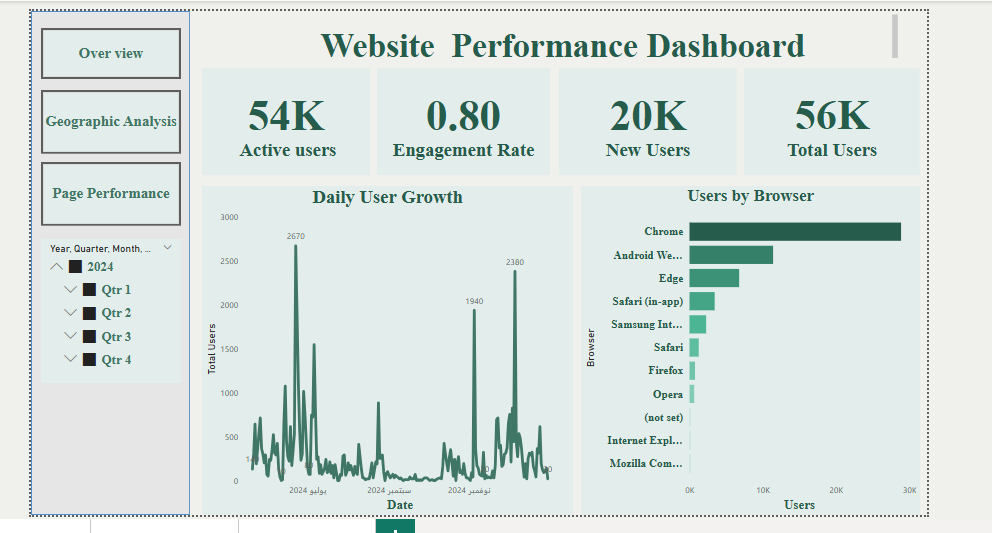

Layout of this report page (visuals, bound fields, positions):
{"tool":"powerbi","page":{"name":"Over view","canvas":[1280,720],"ordinal":0},"visuals":[{"type":"shape","box":[0,0,227.1,720],"z":0},{"type":"actionButton","box":[14.3,24.3,200,72.9],"z":1000},{"type":"actionButton","box":[14.3,215.7,200,91.4],"z":2000},{"type":"actionButton","box":[14.3,112.9,200,91.4],"z":3000},{"type":"textbox","box":[244.3,0,998.6,77.1],"z":4000},{"type":"card","fields":{"Values":["Table1.Engagement Rate"]},"box":[494.3,81.4,247.1,152.9],"z":5000},{"type":"card","fields":{"Values":["Sum(Table1.Active users)"]},"box":[244.3,81.4,240,152.9],"z":6000},{"type":"card","fields":{"Values":["Table1.NewUsers"]},"box":[754.3,81.4,254.3,152.9],"z":7000},{"type":"card","fields":{"Values":["Table1.TotalUsers"]},"box":[1018.6,81.4,251.4,152.9],"z":8000},{"type":"lineChart","title":"Daily User Growth","fields":{"Y":["Table1.TotalUsers"],"Category":["Table1.Date"]},"box":[244.3,250,530,470],"z":11000},{"type":"barChart","title":" Users by Browser","fields":{"Category":["Table1.Browser"],"Y":["Table1.TotalUsers"]},"box":[785.7,250,484.3,470],"z":12000},{"type":"slicer","fields":{"Values":["Table1.Date.Variation.Date Hierarchy.Year","Table1.Date.Variation.Date Hierarchy.Quarter","Table1.Date.Variation.Date Hierarchy.Month","Table1.Date.Variation.Date Hierarchy.Day"]},"box":[14.3,325.7,200,205.7],"z":12001}]}

Visuals, with their boxes on the page's 1280x720 design canvas (x1, y1, x2, y2). These are canvas units, not pixel positions in the 992x533 screenshot, which may show the page scaled, cropped or inside an application window:
shape: box=[0, 0, 227, 720]
actionButton: box=[14, 24, 214, 97]
actionButton: box=[14, 216, 214, 307]
actionButton: box=[14, 113, 214, 204]
textbox: box=[244, 0, 1243, 77]
card - Table1.Engagement Rate: box=[494, 81, 741, 234]
card - Sum(Table1.Active users): box=[244, 81, 484, 234]
card - Table1.NewUsers: box=[754, 81, 1009, 234]
card - Table1.TotalUsers: box=[1019, 81, 1270, 234]
"Daily User Growth" lineChart: box=[244, 250, 774, 720]
" Users by Browser" barChart: box=[786, 250, 1270, 720]
slicer - Table1.Date.Variation.Date Hierarchy.Year x Table1.Date.Variation.Date Hierarchy.Quarter: box=[14, 326, 214, 531]
